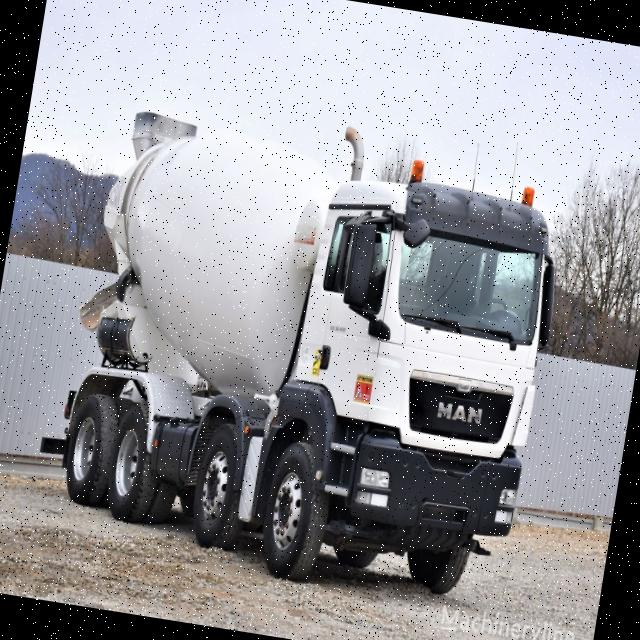Mixer Truck: (25, 103, 569, 615)
